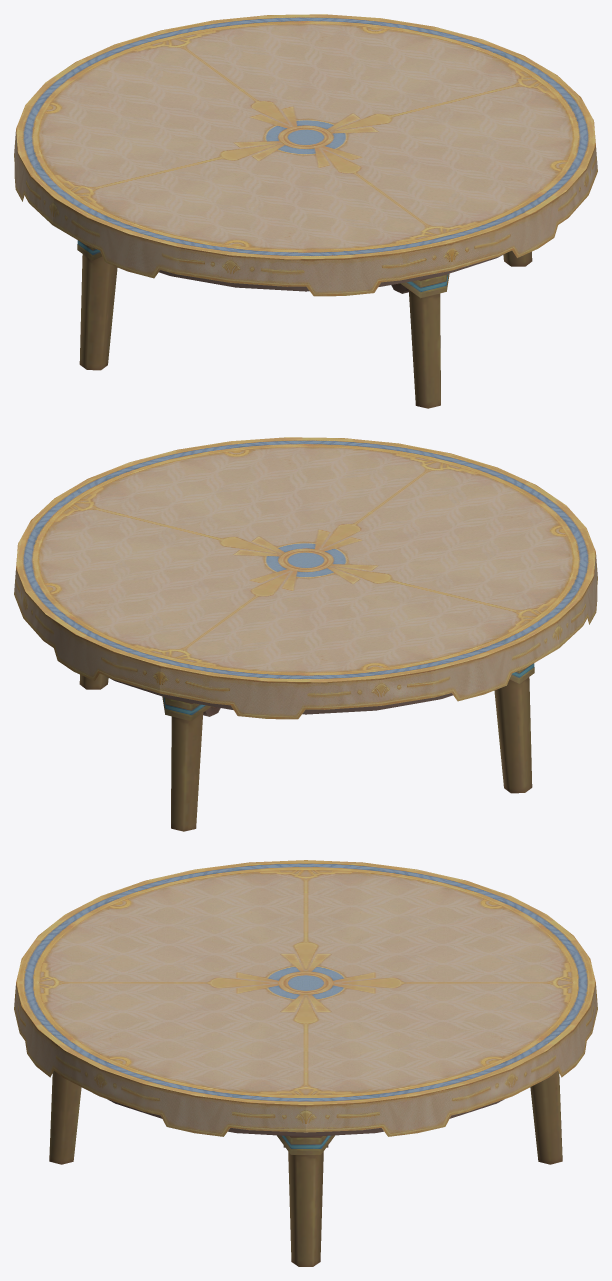
File: Homeworld_Interior_Fd_Table_Prop_HotelYuan_01_Vo.fbx
3 views of the same model, one above another, from view 1: azimuth 30°, elevation 25°; view 2: azimuth 150°, elevation 25°; view 3: azimuth 270°, elevation 25° (orthographic).
Visible parts, largest first — view 1: Indoor_Fd_Prop_Hotel_Carpet_A_01_Vo, Indoor_Fd_Prop_Table_A_03_Vo; view 2: Indoor_Fd_Prop_Hotel_Carpet_A_01_Vo, Indoor_Fd_Prop_Table_A_03_Vo; view 3: Indoor_Fd_Prop_Hotel_Carpet_A_01_Vo, Indoor_Fd_Prop_Table_A_03_Vo.
Boxes of the visible parts, box(x1,y1,x2,y2) form: Indoor_Fd_Prop_Hotel_Carpet_A_01_Vo: box(14, 14, 597, 296); Indoor_Fd_Prop_Table_A_03_Vo: box(77, 240, 532, 408); Indoor_Fd_Prop_Hotel_Carpet_A_01_Vo: box(14, 437, 597, 719); Indoor_Fd_Prop_Table_A_03_Vo: box(79, 663, 534, 831); Indoor_Fd_Prop_Hotel_Carpet_A_01_Vo: box(14, 860, 597, 1136); Indoor_Fd_Prop_Table_A_03_Vo: box(49, 1071, 562, 1266).
Bounding box in the file's own units: 2.37 × 0.7886 × 2.37.
